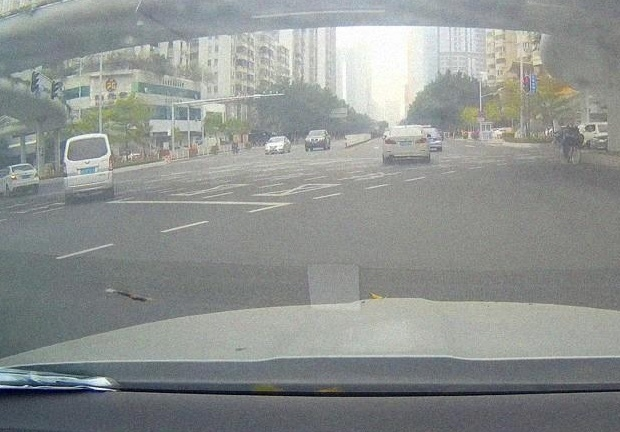L_light: (63, 162, 67, 177), (385, 139, 396, 144), (10, 175, 17, 180)
R_light: (109, 155, 113, 170), (416, 138, 426, 143), (33, 173, 38, 178)
T_light: (82, 138, 91, 141), (402, 128, 410, 130), (19, 165, 25, 167)
day-left: (10, 163, 39, 197)
day-no: (63, 133, 113, 204), (383, 125, 430, 163)
